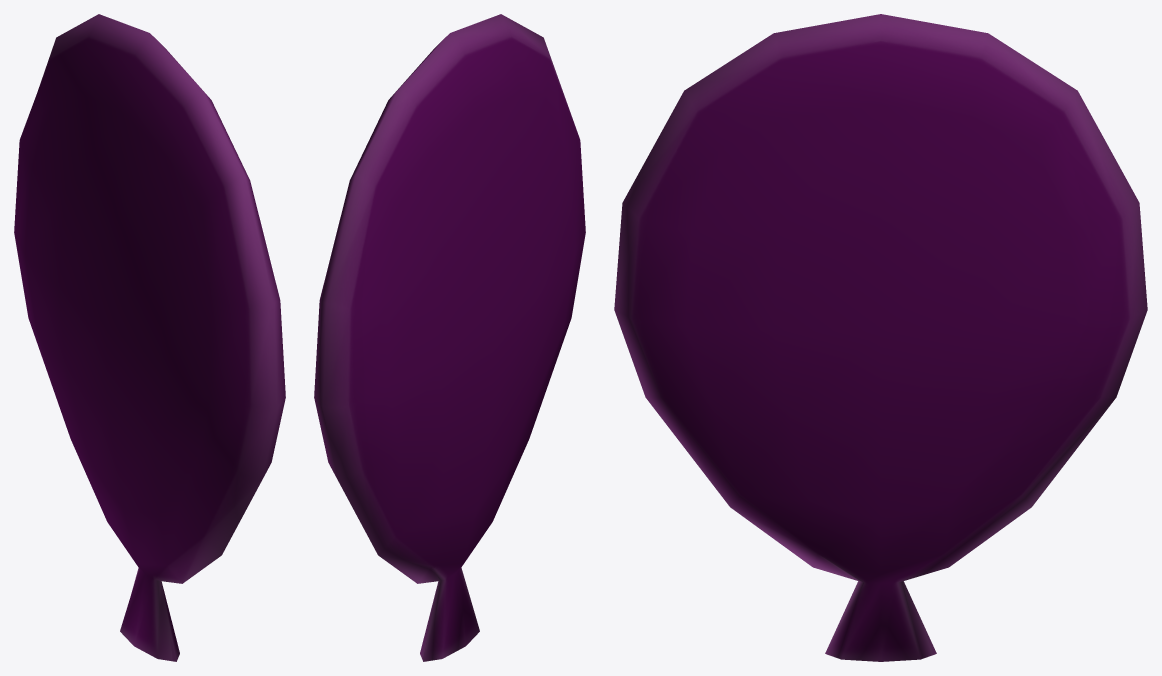
Rendered from balloon.obj.
The picture shows the model from 3 angles, left to right: view 1: azimuth 30°, elevation 25°; view 2: azimuth 150°, elevation 25°; view 3: azimuth 270°, elevation 25°; orthographic projection. The views are drawn at different scales.
Visible parts, largest first — view 1: Box001; view 2: Box001; view 3: Box001.
Boxes of the visible parts, bbox=[...] form: Box001: bbox=[14, 14, 285, 661]; Box001: bbox=[314, 14, 585, 661]; Box001: bbox=[614, 14, 1147, 661].
Size of the model in its own units: 2.6 by 17.36 by 13.12.
Materials: 1 (1 with a texture image).
